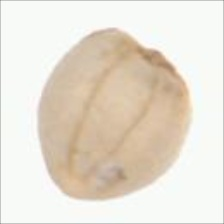L5: (61, 49, 162, 184), (114, 30, 182, 83), (42, 163, 99, 203)
L6: (33, 23, 194, 207)
